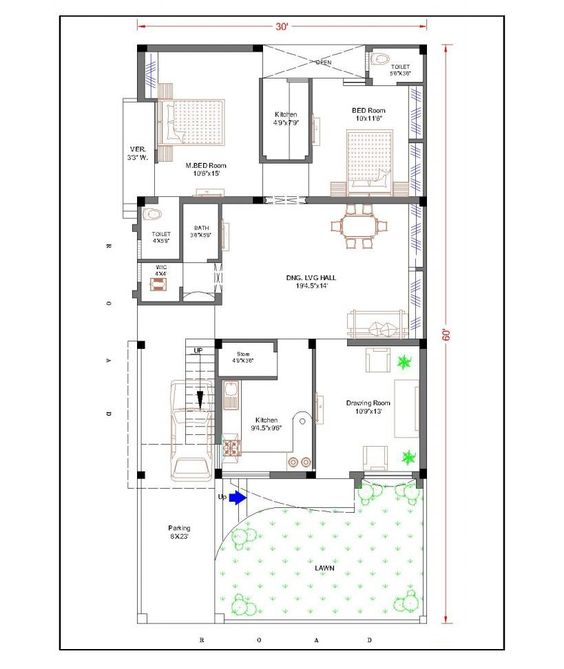room: (138, 44, 263, 203), (310, 339, 426, 478), (308, 82, 425, 205)
